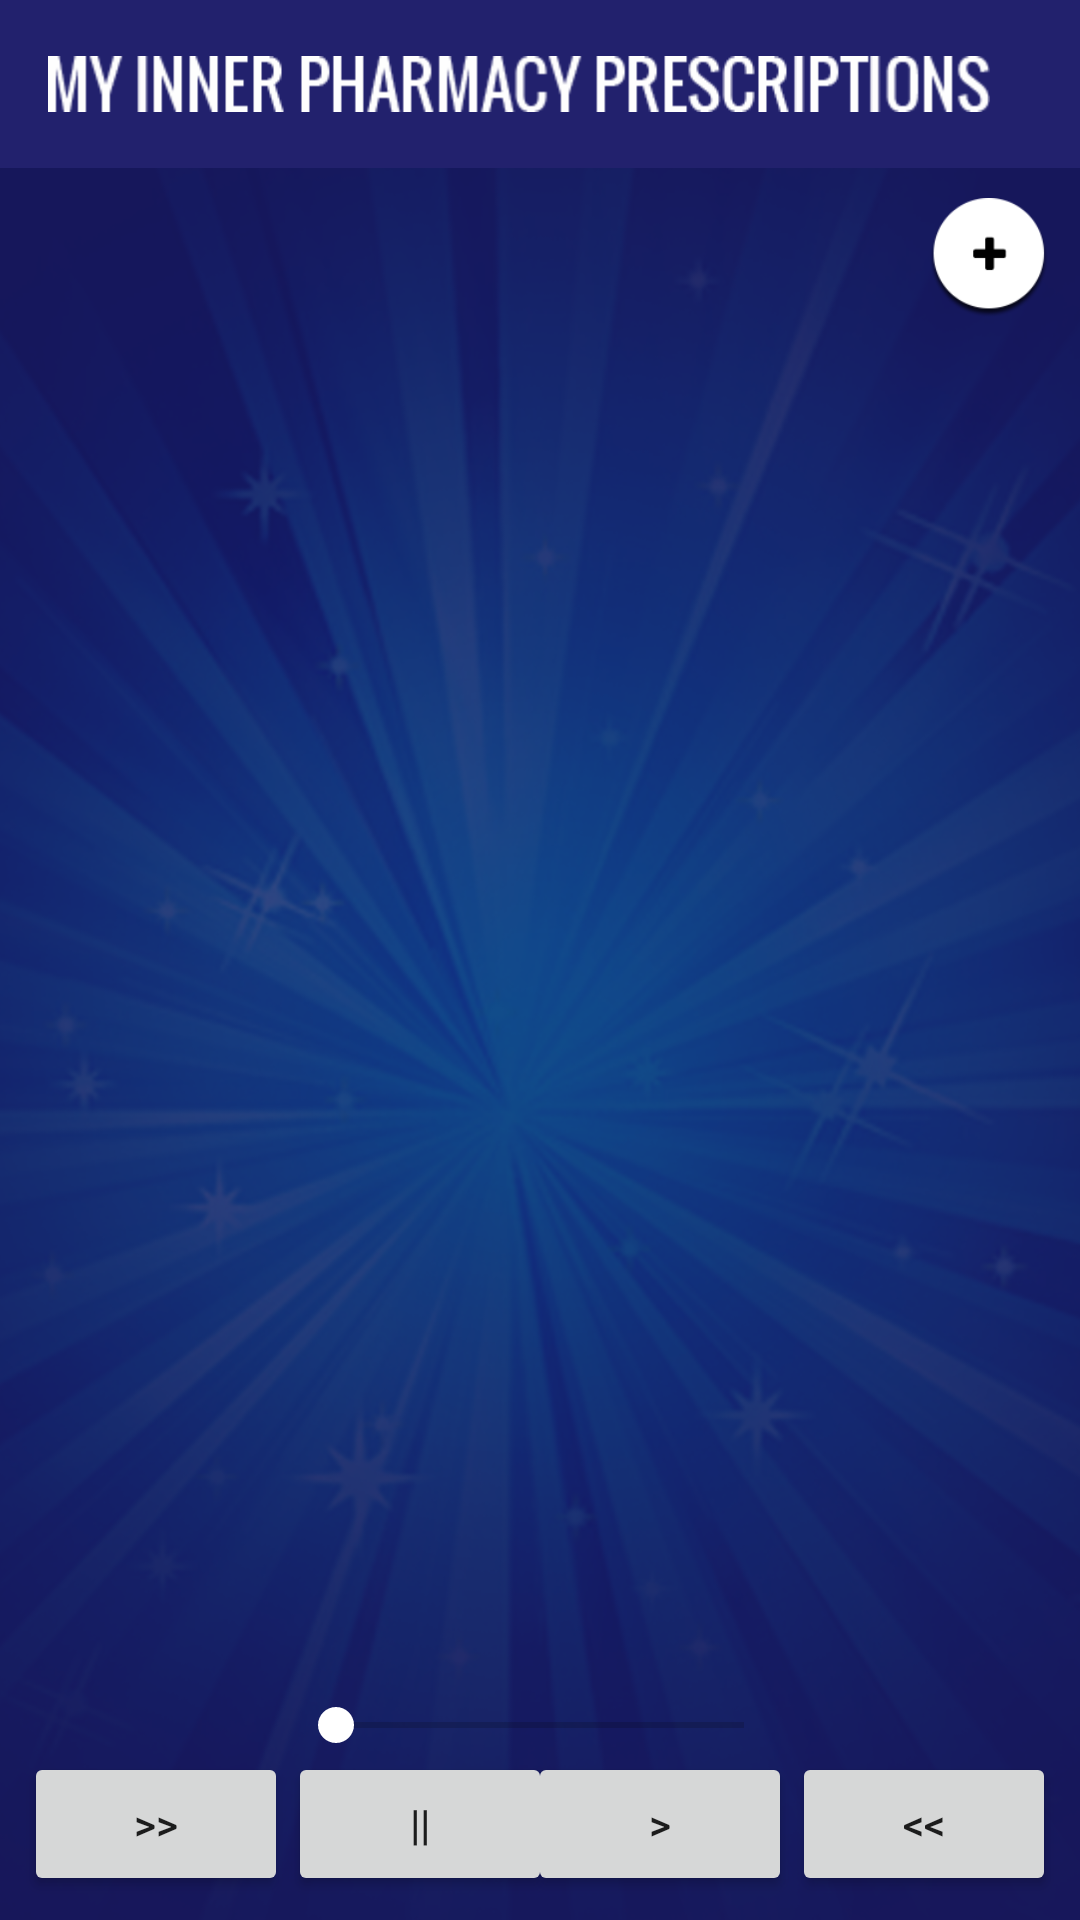

Screen size 1080×1920. Icon name, then its box in pixels as [x1,y1,x2,y2]:
paushtaskadd: [933,198,1045,314]
